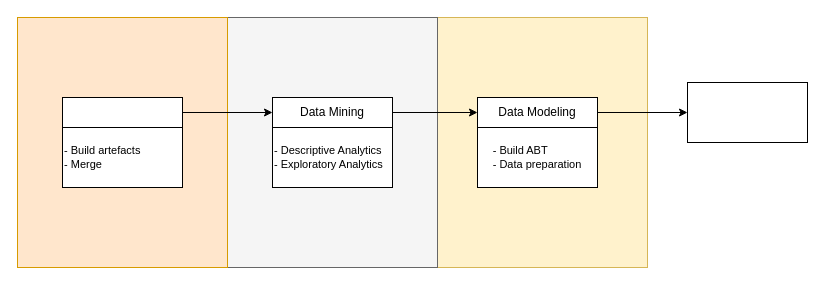
Some shapes in this 825 by 285 pixel diagram are drawn without their labels. The shapes that lost their labels are listed below. From the top down, each one's centre as x and y in pixels, then its label:
At (122,112): "ETL".
At (747,112): "Results".
